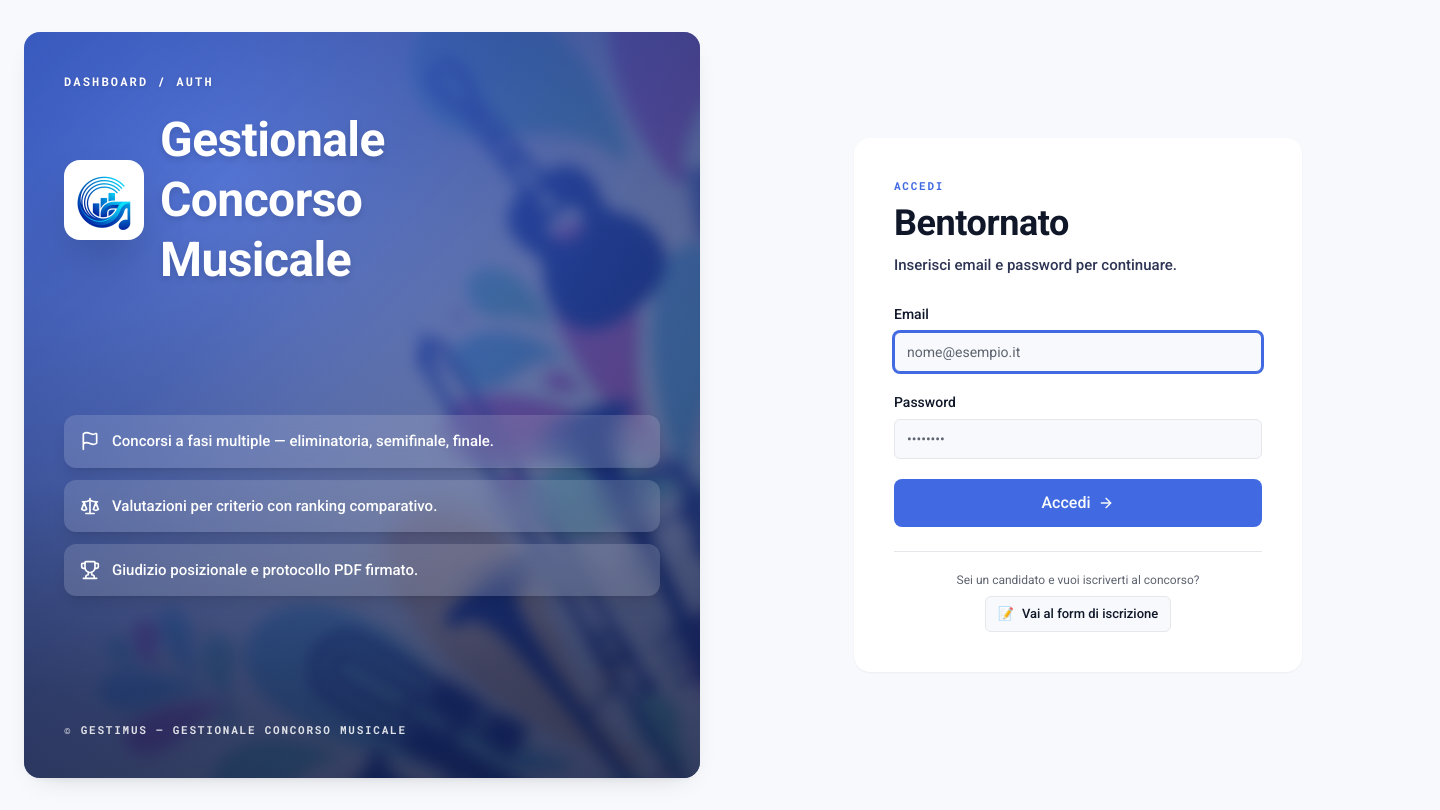
Test: Login page › shows an error alert on invalid credentials
Type "admin@esempio.it" into the field labelled "Email" at (1078, 352), box [894, 332, 1262, 372]
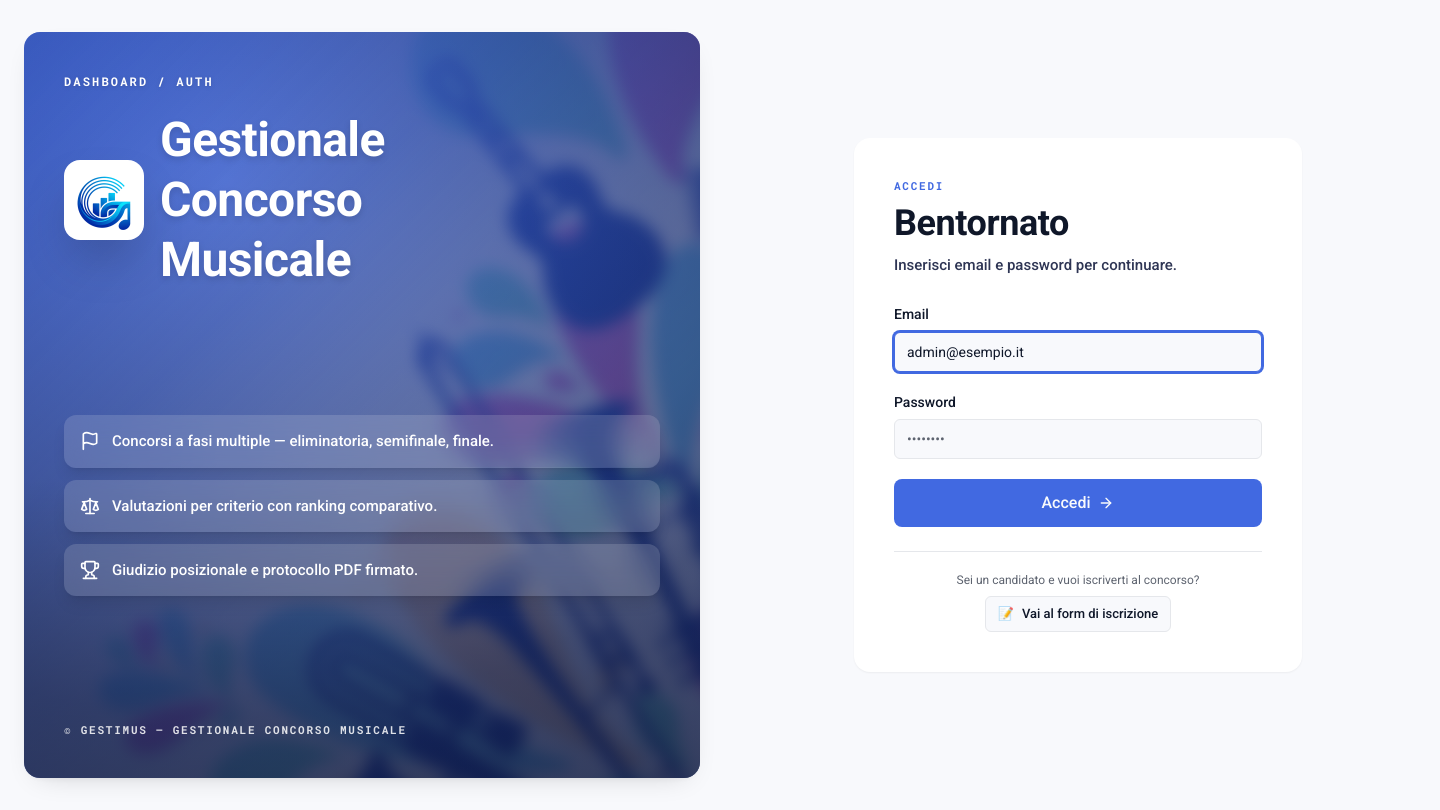
Type "wrong" into the password field labelled "Password" at (1078, 439), box [894, 419, 1262, 459]
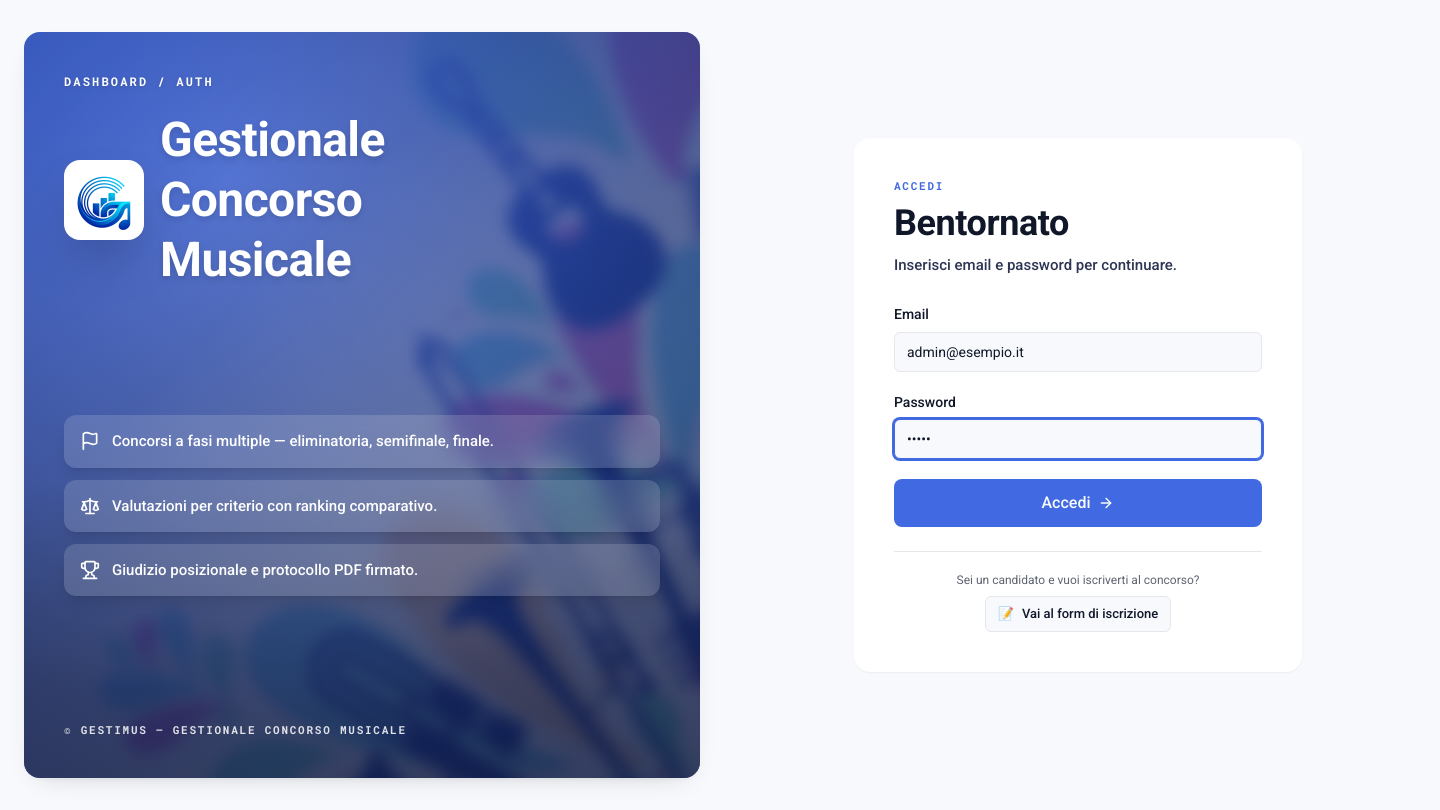
Click the button "Accedi" at (1078, 503), box [894, 479, 1262, 527]
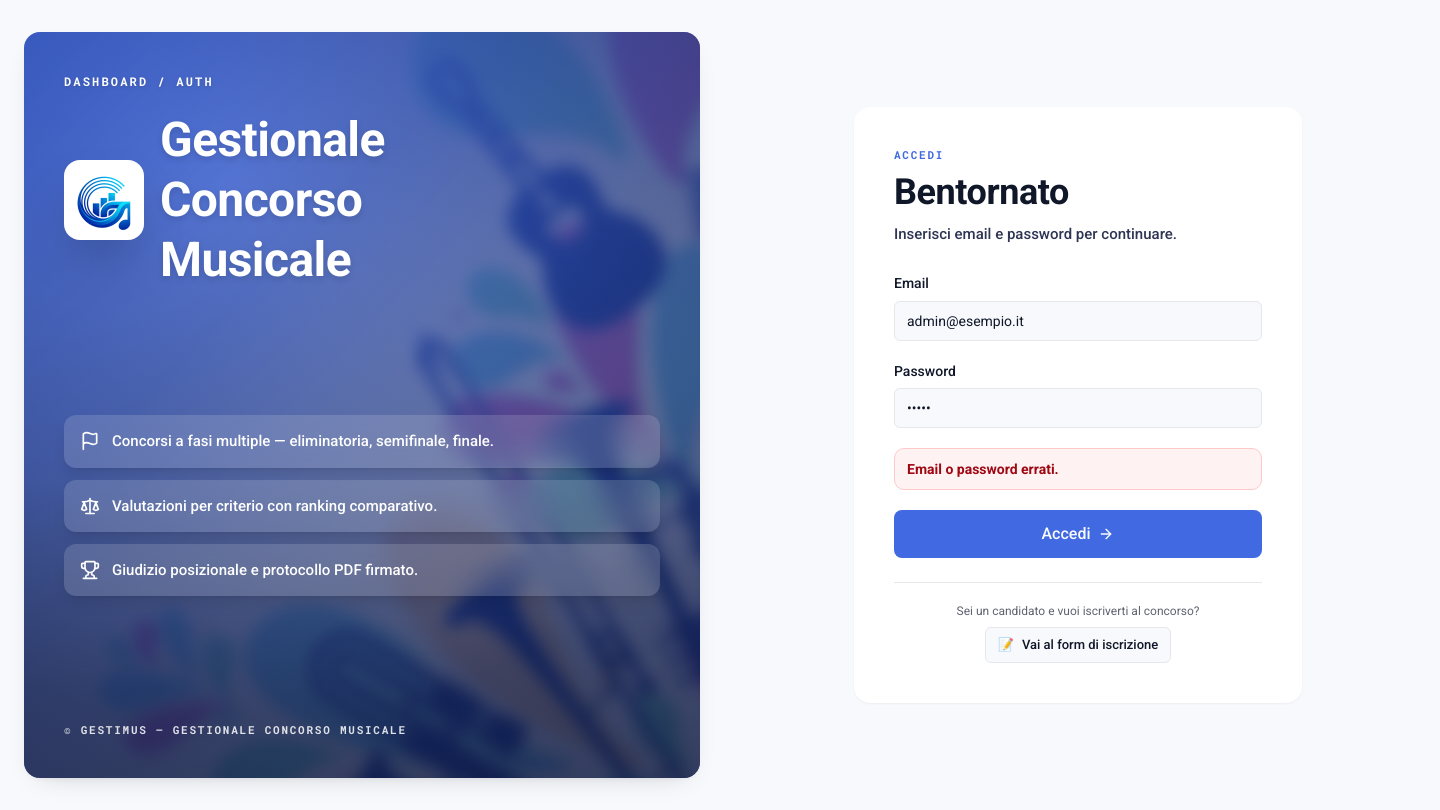
Now the message reads "Email o password errati.", box [907, 461, 1059, 477]
